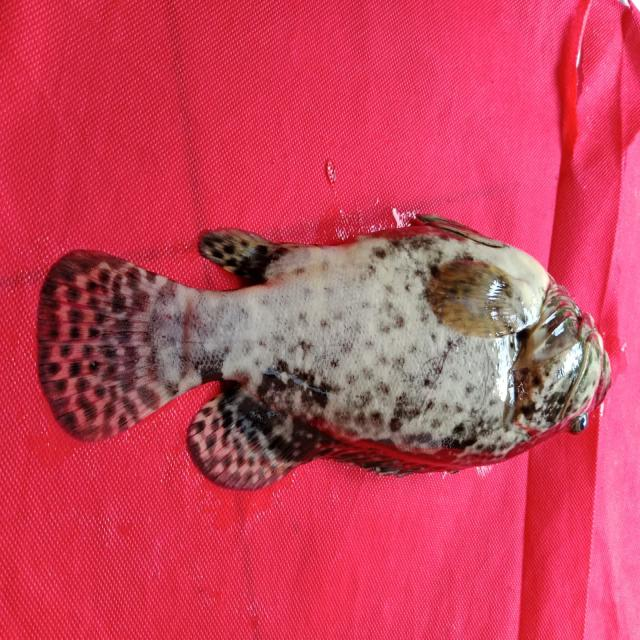ikan: (33, 201, 621, 507)
